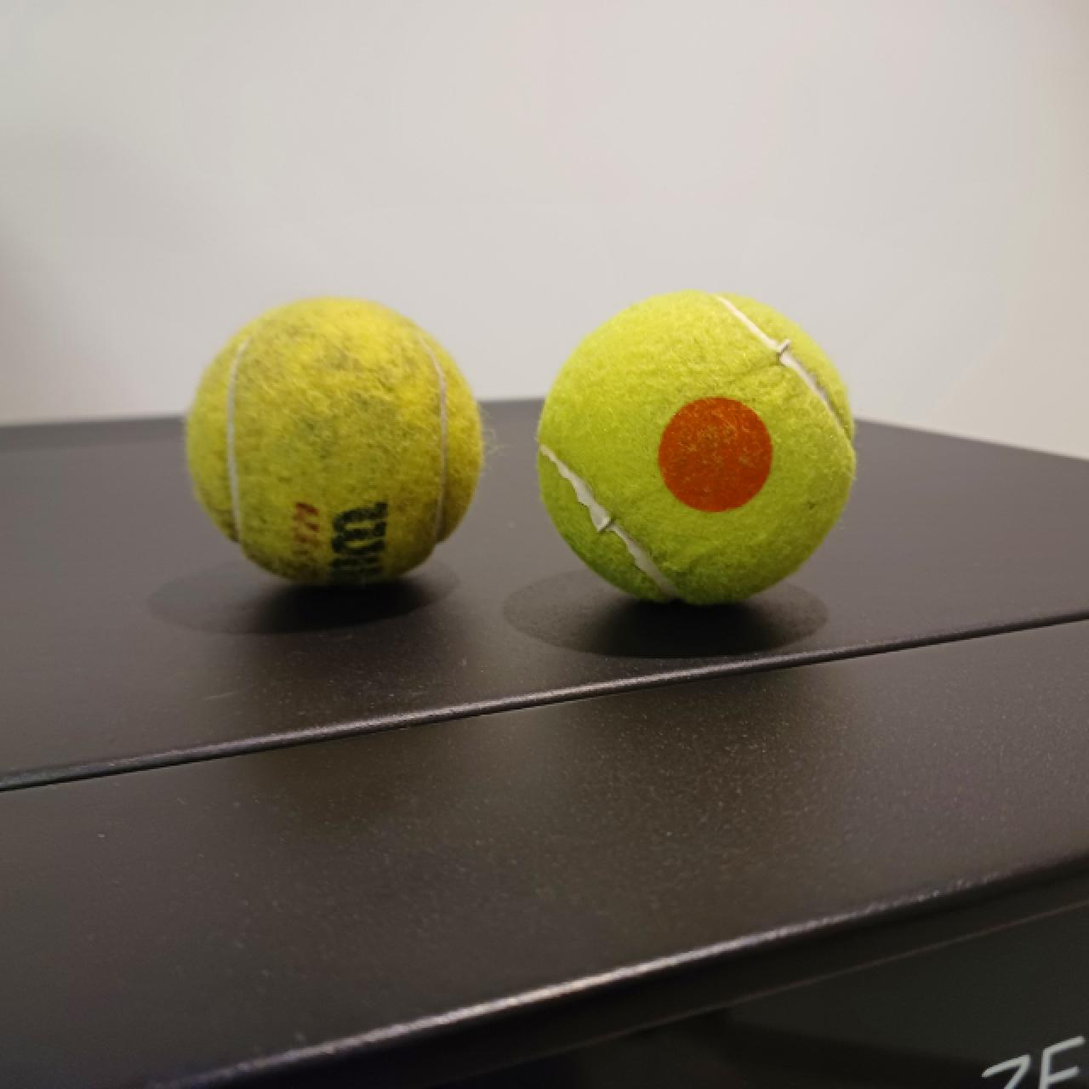tennis-ball: (538, 288, 857, 606), (181, 295, 486, 599)
